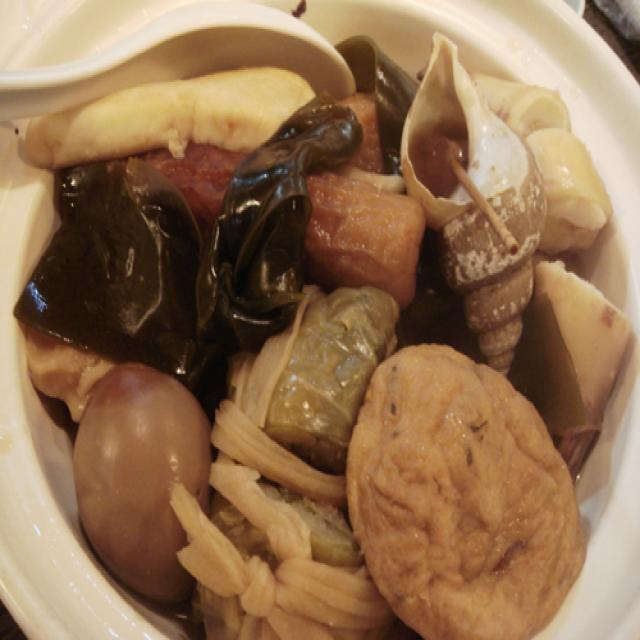汤锅炖物: (13, 26, 631, 636)
